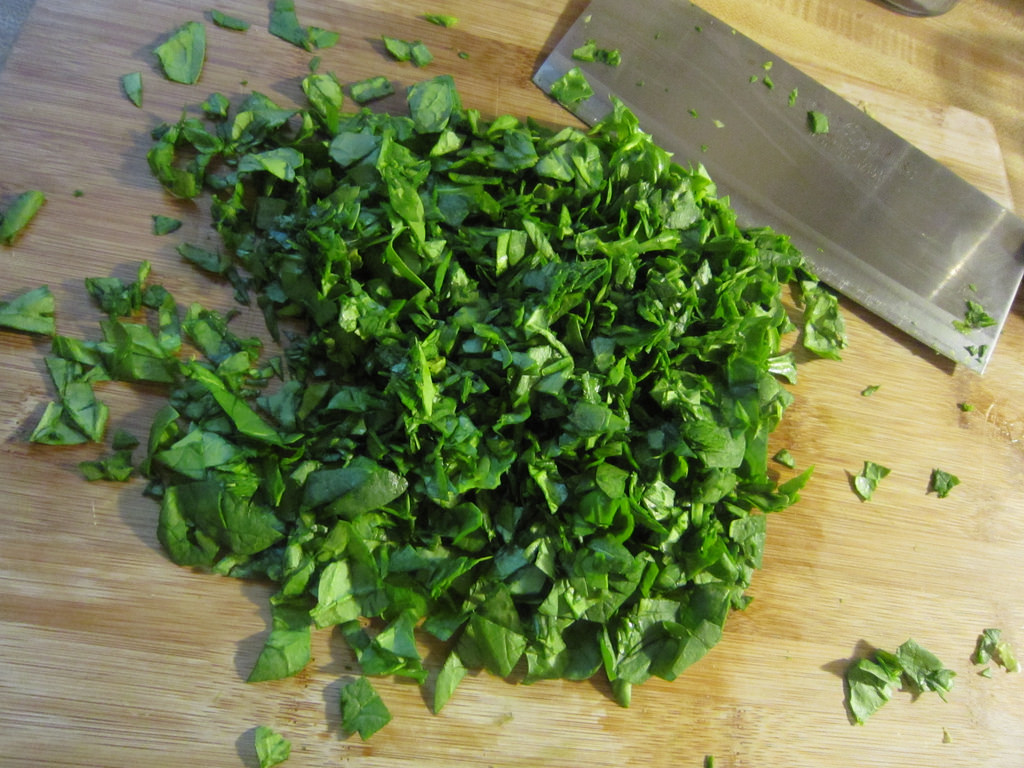chopped lettuce: (52, 32, 801, 760)
